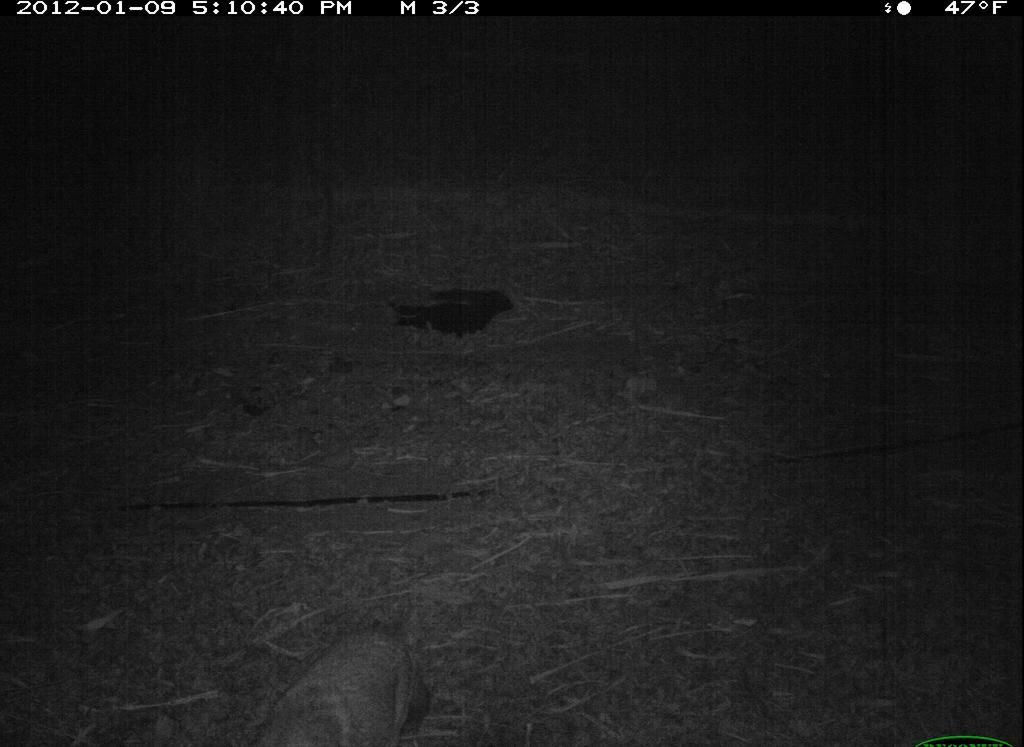coyote: (233, 611, 449, 747)
